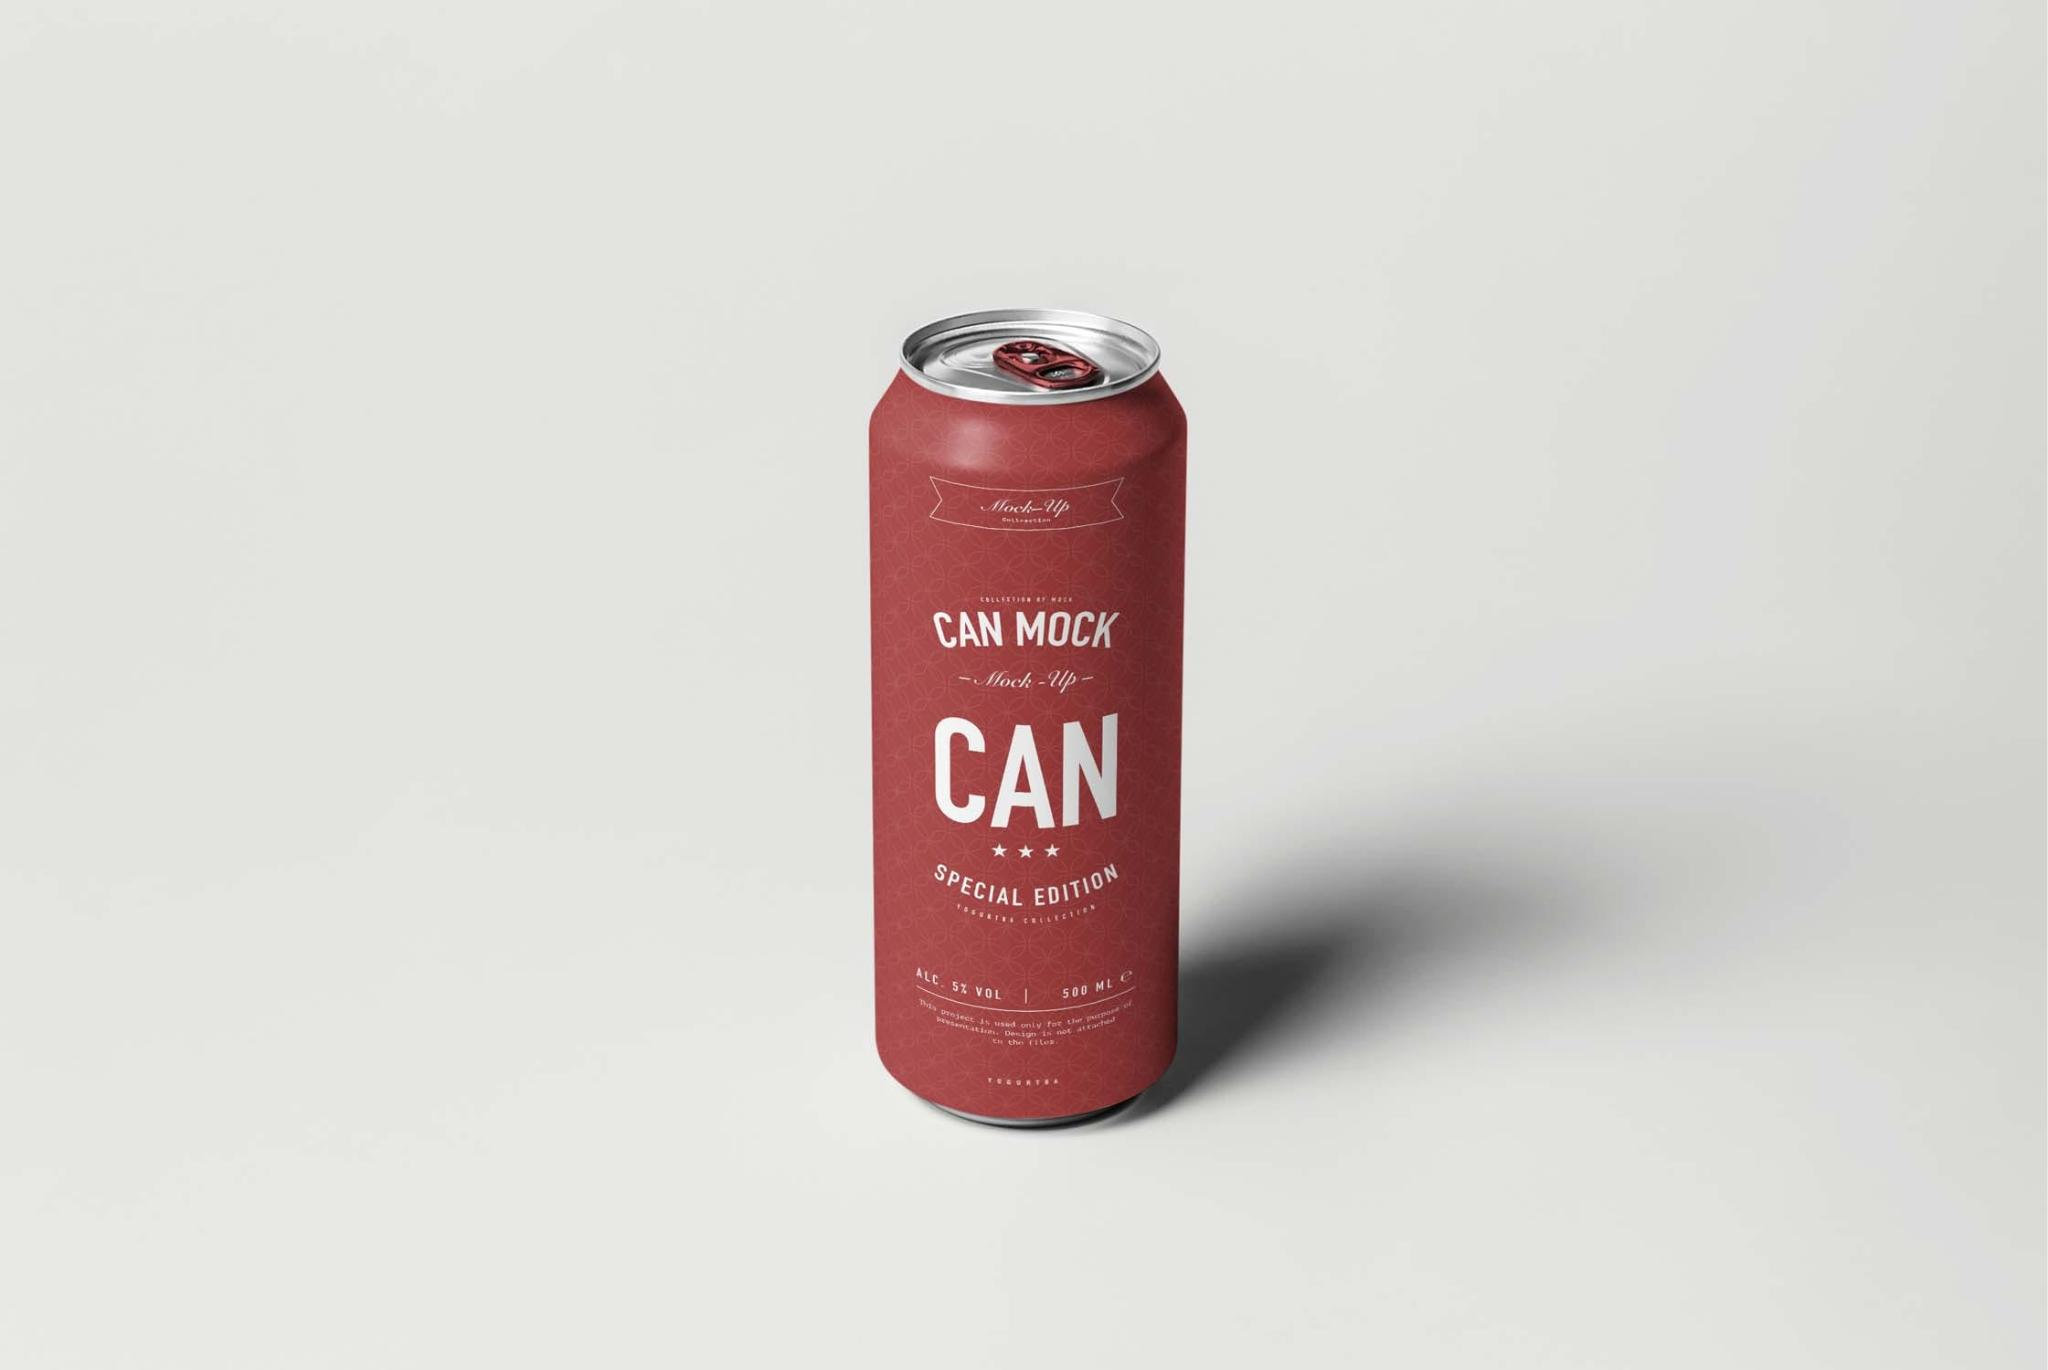metal: (868, 307, 1188, 1128)
